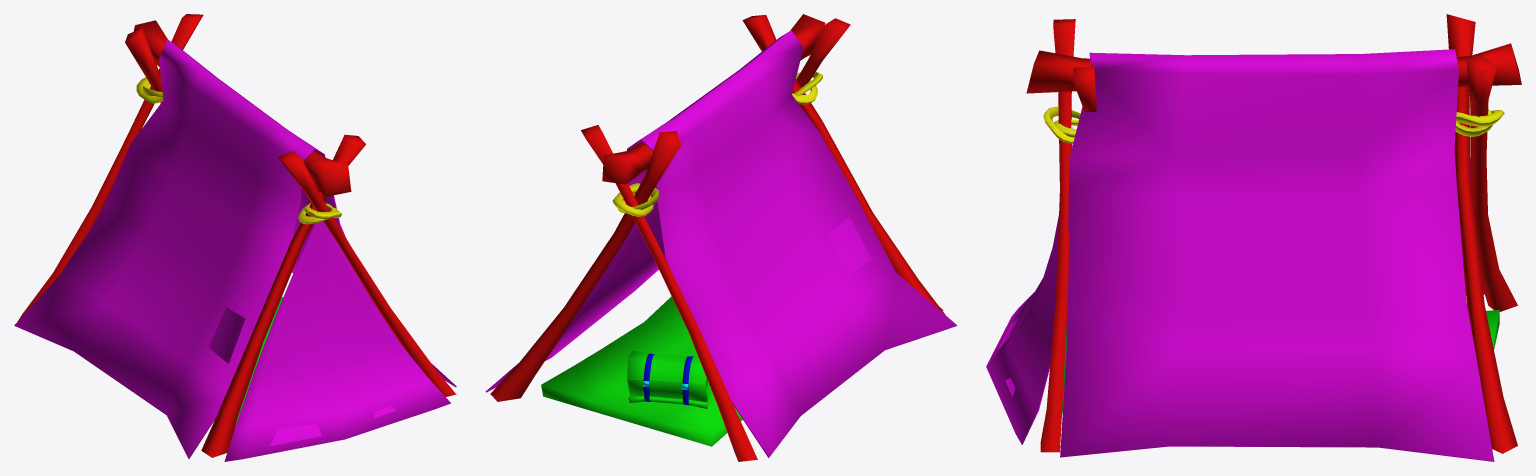
Rendered from HOS0910004.fbx.
The picture shows the model from 3 angles, left to right: view 1: azimuth 30°, elevation 25°; view 2: azimuth 150°, elevation 25°; view 3: azimuth 270°, elevation 25°; orthographic projection. The views are drawn at different scales.
Visible parts, largest first — view 1: smHOS0910004; view 2: smHOS0910004; view 3: smHOS0910004.
Boxes of the visible parts, bbox=[...] form: smHOS0910004: bbox=[14, 14, 456, 461]; smHOS0910004: bbox=[485, 14, 956, 461]; smHOS0910004: bbox=[986, 14, 1521, 461].
Bounding box in the file's own units: 342 × 330 × 460.
